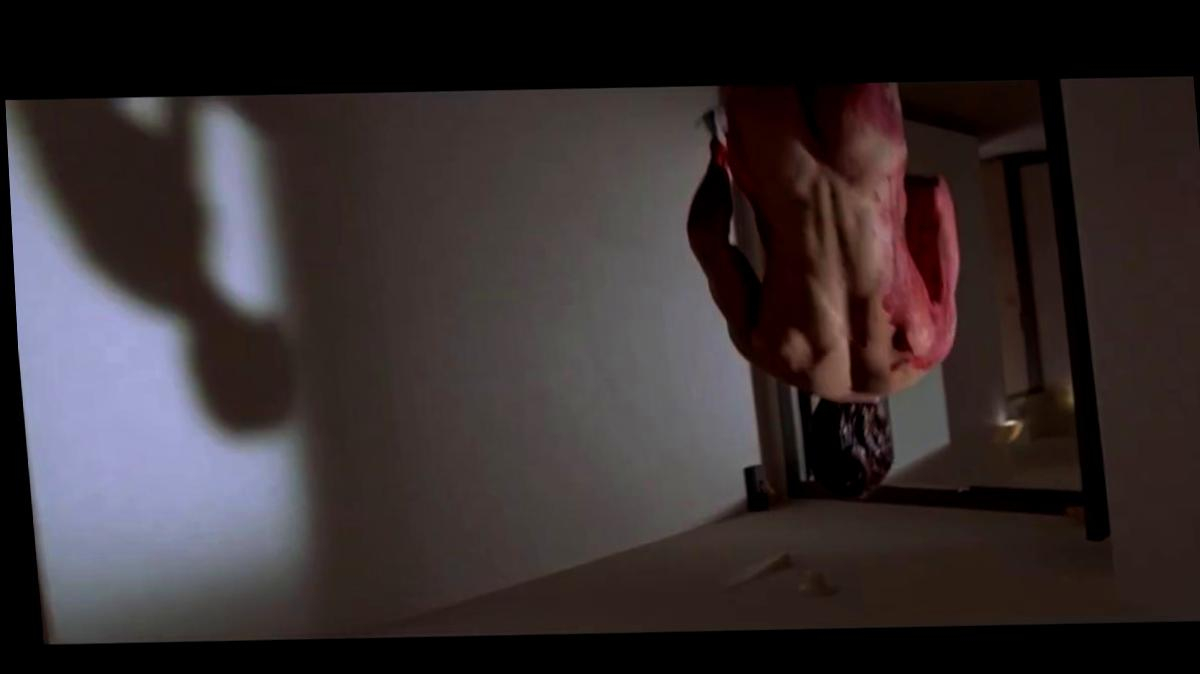Fire: (853, 174, 957, 391), (796, 79, 905, 178)
